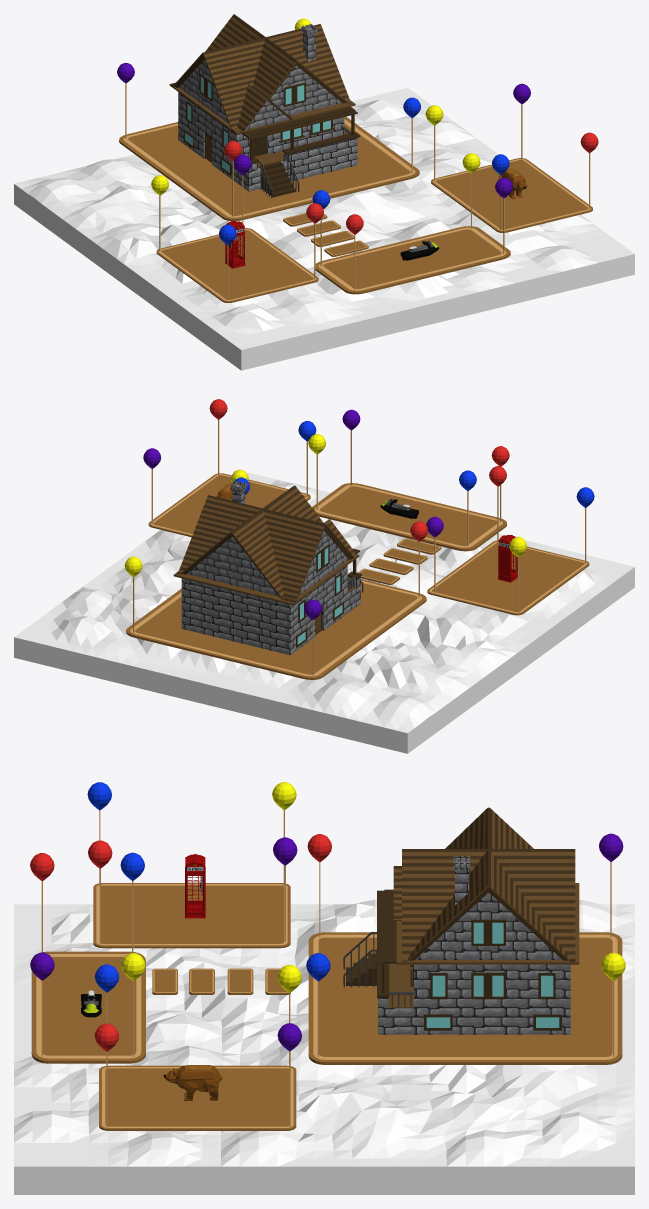
The picture shows the model from 3 angles, top to bottom: view 1: azimuth 30°, elevation 25°; view 2: azimuth 150°, elevation 25°; view 3: azimuth 270°, elevation 25°; orthographic projection. The views are drawn at different scales.
Parts seen in each view (by area): view 1: Cube.013, Cube.586, OBJRANDOM_PHONEBOOTH; view 2: Cube.013, Cube.586, OBJRANDOM_PHONEBOOTH; view 3: Cube.013, Cube.586, ANIMAL_OSO, OBJRANDOM_PHONEBOOTH.
Part boxes in pixels (<box>): Cube.013: <box>14,18,634,370</box>; Cube.586: <box>169,14,360,198</box>; OBJRANDOM_PHONEBOOTH: <box>225,221,245,268</box>; Cube.013: <box>14,399,634,753</box>; Cube.586: <box>173,481,363,654</box>; OBJRANDOM_PHONEBOOTH: <box>498,535,517,582</box>; Cube.013: <box>14,782,634,1194</box>; Cube.586: <box>343,807,579,1034</box>; ANIMAL_OSO: <box>163,1065,222,1100</box>; OBJRANDOM_PHONEBOOTH: <box>185,854,205,918</box>.
Size of the model in its own units: 4000 by 1697 by 4000.
37 materials, 2 textured.
